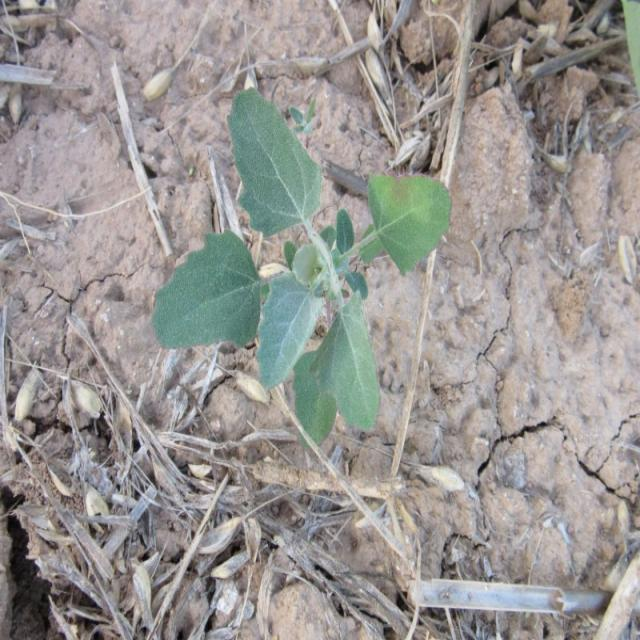ca: (160, 90, 454, 437)
